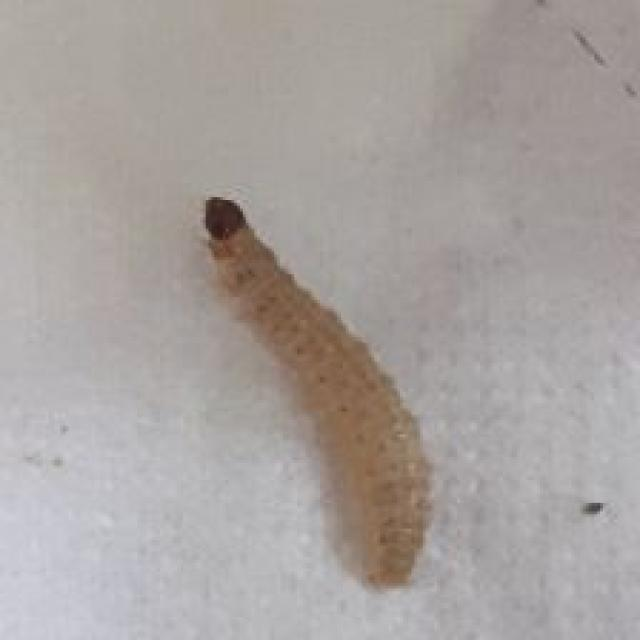white mucus: (203, 184, 468, 585)
